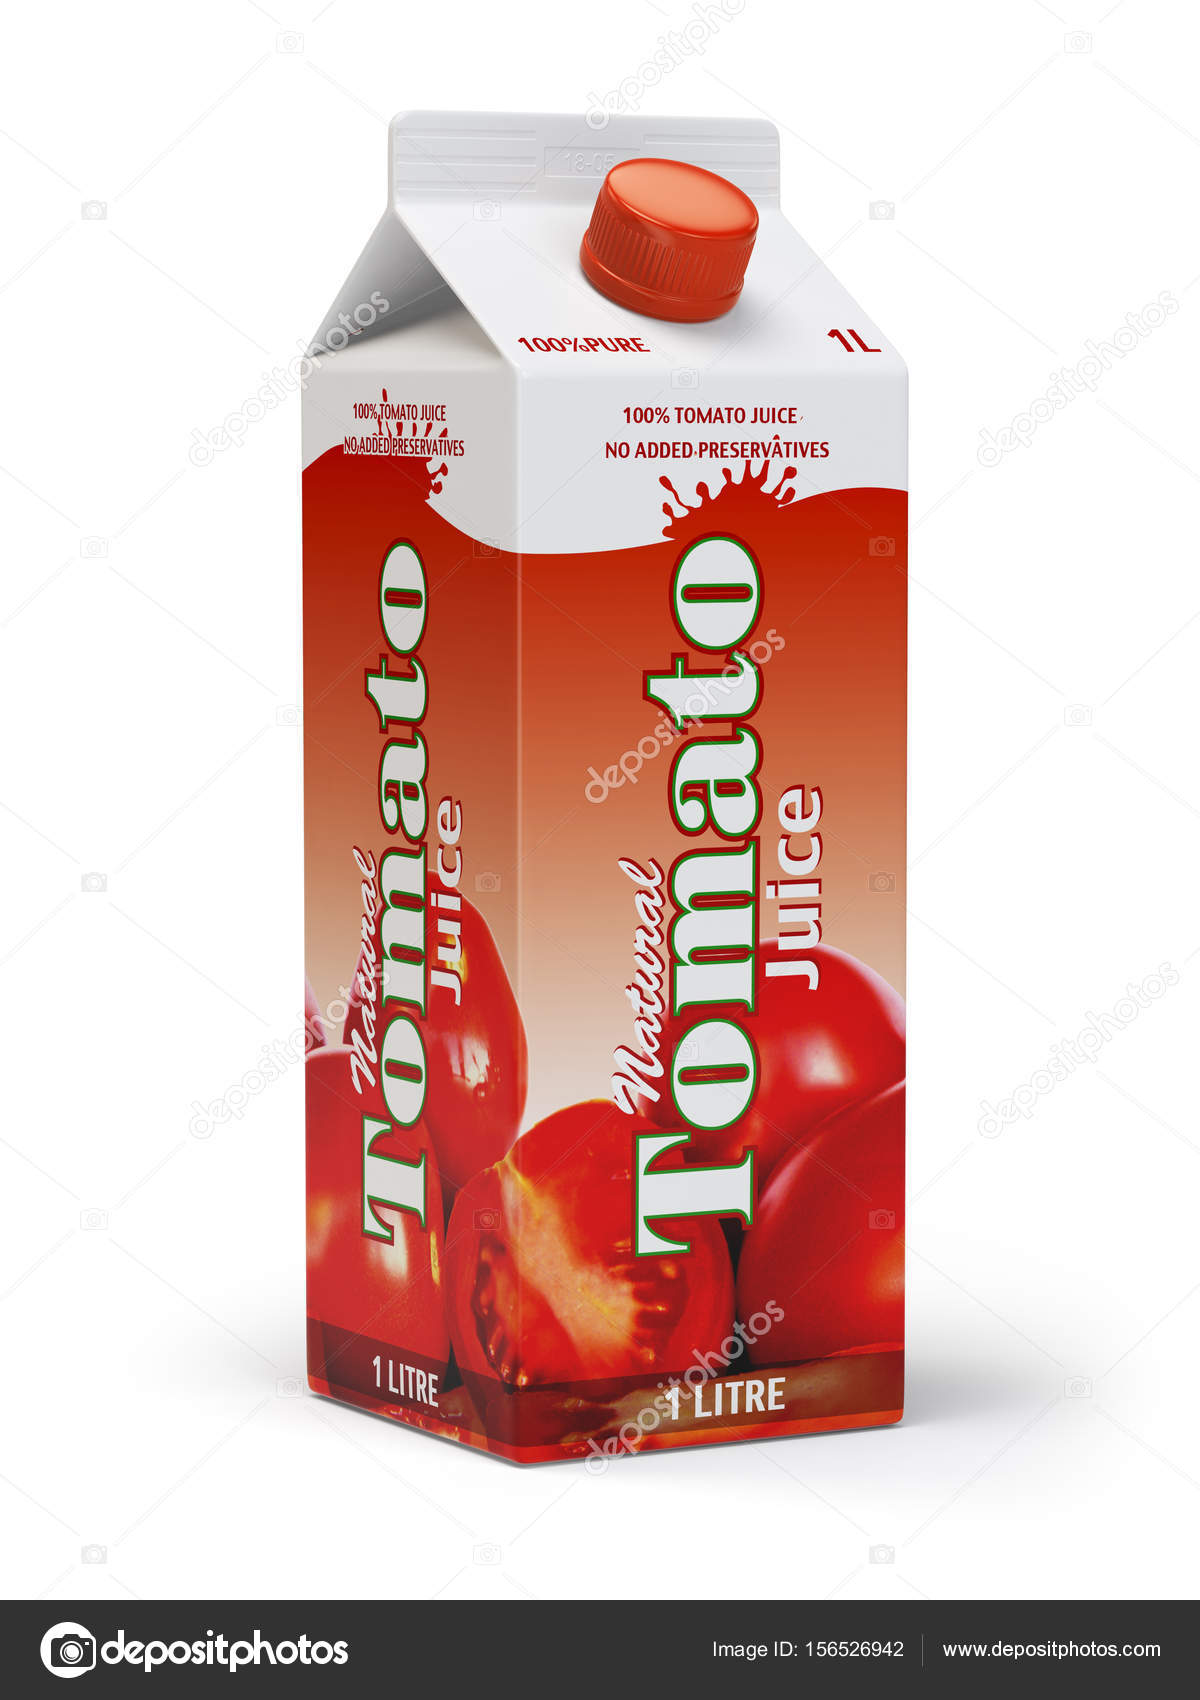Rec_Paper: (177, 75, 1023, 1543)
